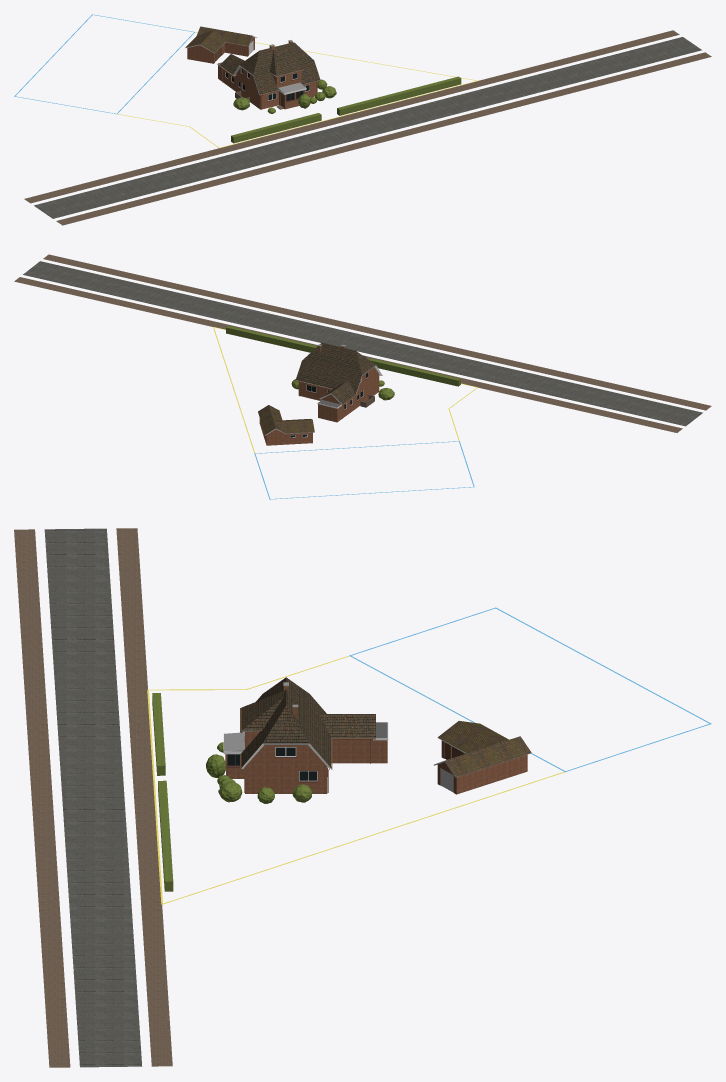
The model's file is bestand_nr12_v2_mobile.glb.
3 views of the same model, one above another, from view 1: azimuth 30°, elevation 25°; view 2: azimuth 150°, elevation 25°; view 3: azimuth 270°, elevation 25° (orthographic). The views are drawn at different scales.
Parts seen in each view (by area): view 1: Strasse, Stufe, Dach_Haupt, Hecke, Waende_Haupt, NG_Dach_T, NG_Riegel_Waende; view 2: Strasse, Stufe, Dach_Haupt, Hecke, Waende_Haupt, NG_Dach_T, NG_Riegel_Waende; view 3: Strasse, Stufe, Dach_Haupt, Waende_Haupt, Hecke, NG_Dach_T, NG_Riegel_Waende.
Boxes of the visible parts, <box> form: Strasse: <box>34,37,701,218</box>; Stufe: <box>24,30,711,225</box>; Dach_Haupt: <box>14,14,478,148</box>; Hecke: <box>231,76,461,143</box>; Waende_Haupt: <box>218,41,317,109</box>; NG_Dach_T: <box>185,26,252,52</box>; NG_Riegel_Waende: <box>187,37,254,63</box>; Strasse: <box>23,261,702,426</box>; Stufe: <box>14,254,711,432</box>; Dach_Haupt: <box>213,327,477,499</box>; Hecke: <box>226,325,460,400</box>; Waende_Haupt: <box>298,346,379,422</box>; NG_Dach_T: <box>258,405,314,434</box>; NG_Riegel_Waende: <box>259,418,312,445</box>; Strasse: <box>44,528,142,1067</box>; Stufe: <box>14,528,172,1067</box>; Dach_Haupt: <box>147,607,711,904</box>; Waende_Haupt: <box>226,686,387,793</box>; Hecke: <box>152,693,312,891</box>; NG_Dach_T: <box>438,721,531,776</box>; NG_Riegel_Waende: <box>437,740,527,794</box>.
Size of what is drawn, in the model's own units: 133 by 9.68 by 72.89.
9 materials, 9 textured.
